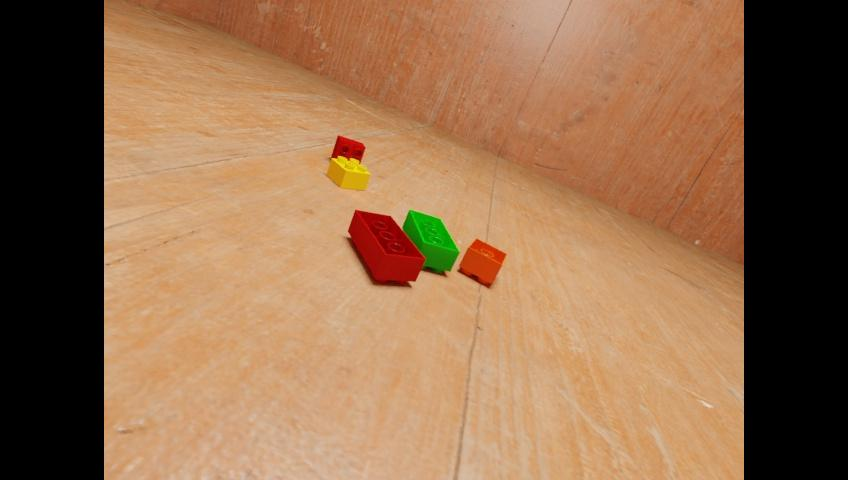2x2_orange: (459, 237, 506, 283)
2x2_red: (330, 134, 364, 165)
2x2_yellow: (326, 155, 369, 190)
4x2_green: (402, 208, 459, 272)
4x2_red: (347, 209, 424, 283)
